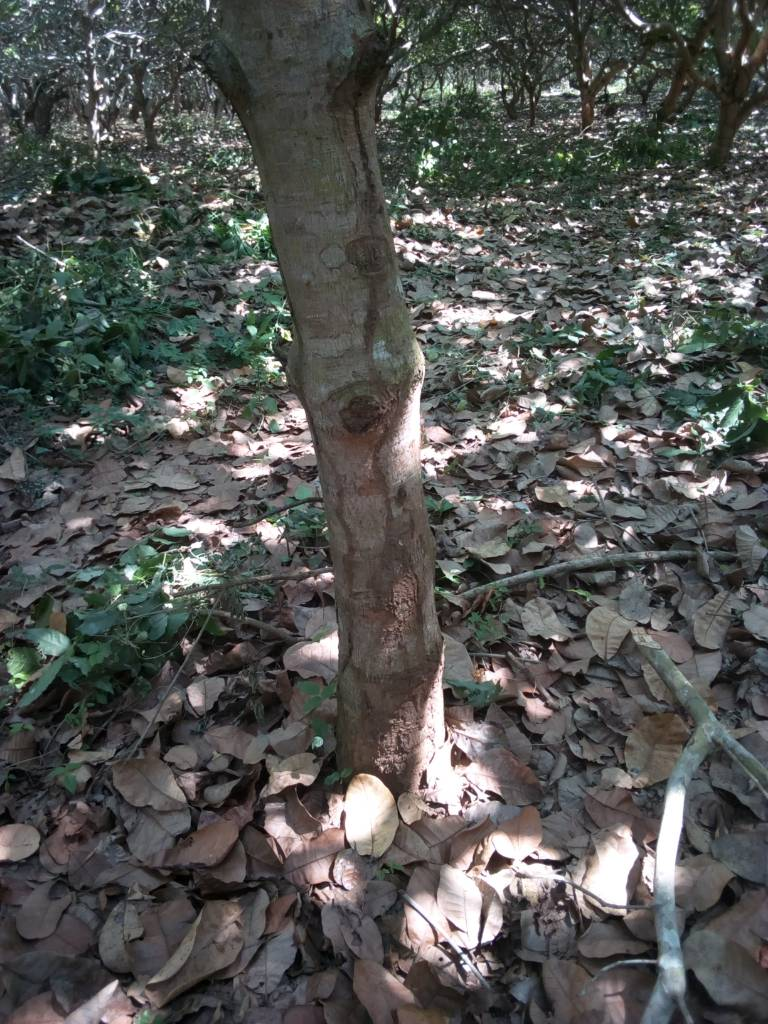Termites: (360, 89, 429, 703), (335, 480, 357, 639)
